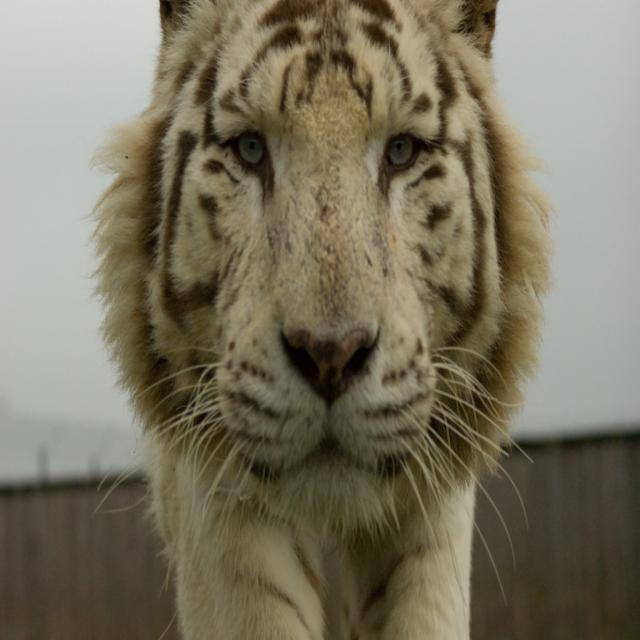Tiger: (89, 0, 558, 639)
